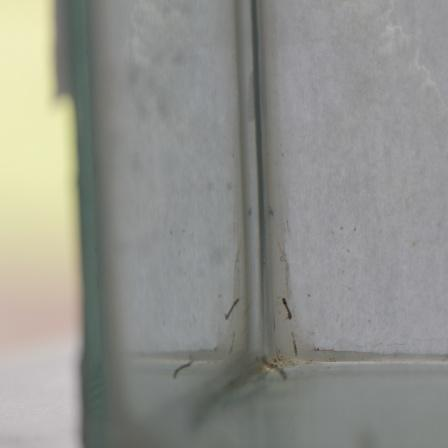Jentik-Nyamuk: (278, 296, 296, 323)
